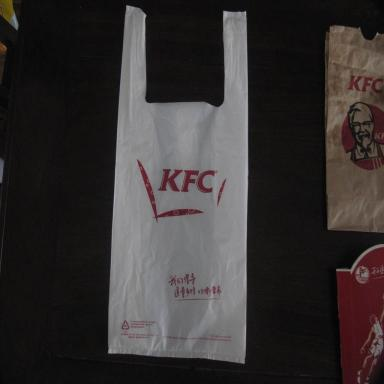plasticbag: (108, 4, 246, 362)
